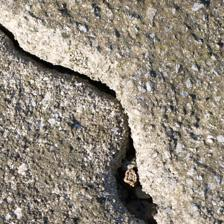Crack: (31, 49, 94, 224), (77, 5, 161, 97)
